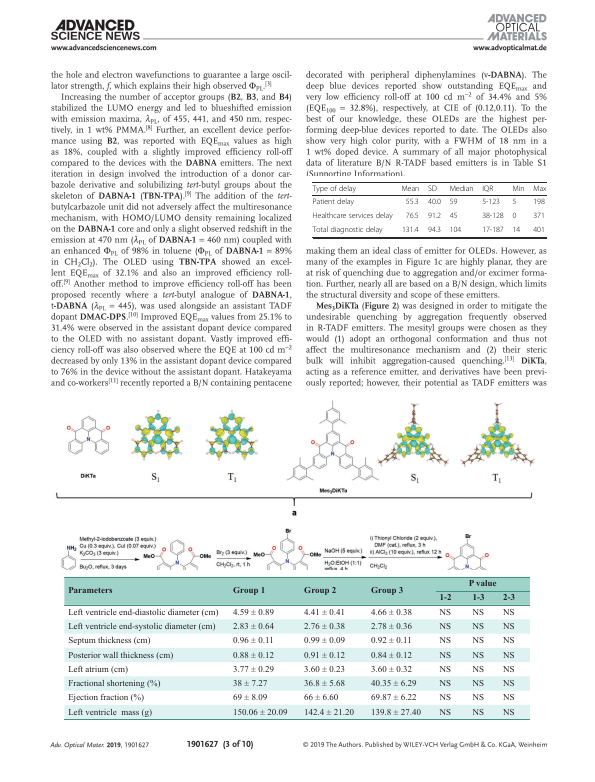borderless: (63, 575, 530, 719), (311, 181, 546, 237)
cell: (66, 608, 219, 618), (66, 622, 216, 632), (66, 651, 174, 661), (66, 679, 161, 689), (66, 636, 151, 647), (66, 708, 152, 718), (66, 693, 144, 704), (312, 212, 394, 222), (312, 226, 384, 236), (66, 665, 128, 675), (232, 708, 288, 718), (370, 693, 417, 704), (303, 708, 354, 718), (370, 708, 421, 718), (370, 679, 417, 689), (232, 636, 274, 647), (303, 636, 345, 647), (370, 636, 412, 647), (67, 587, 113, 597), (312, 198, 355, 208), (232, 608, 274, 618), (303, 608, 345, 618), (370, 608, 412, 618), (232, 622, 274, 632), (303, 622, 345, 632), (370, 622, 412, 632), (232, 651, 274, 661), (303, 651, 345, 661), (370, 651, 412, 661), (232, 665, 274, 675), (303, 665, 345, 675), (370, 665, 412, 675), (303, 679, 345, 689), (312, 185, 357, 194), (232, 693, 268, 704), (303, 693, 339, 704), (232, 679, 268, 689), (369, 587, 404, 597), (232, 587, 266, 597), (303, 587, 337, 597), (467, 580, 497, 590), (481, 212, 505, 222), (481, 226, 505, 236), (449, 185, 474, 194), (481, 198, 501, 208), (401, 226, 420, 236), (400, 185, 420, 194), (438, 636, 452, 647), (471, 636, 485, 647), (438, 693, 452, 704), (471, 693, 485, 704), (405, 198, 420, 208), (427, 198, 442, 208), (405, 212, 420, 222), (427, 212, 442, 222), (427, 226, 442, 236), (502, 636, 515, 647), (502, 693, 515, 704), (532, 198, 546, 208), (532, 212, 546, 222), (532, 226, 546, 236), (438, 594, 452, 604), (471, 594, 485, 604), (501, 594, 515, 604), (438, 608, 452, 618), (471, 608, 485, 618), (438, 622, 452, 632), (471, 622, 485, 632), (438, 651, 452, 661), (471, 651, 485, 661), (438, 665, 452, 675), (471, 665, 485, 675), (438, 679, 452, 689), (471, 679, 485, 689), (438, 708, 452, 718), (471, 708, 485, 718), (532, 185, 547, 194), (449, 226, 462, 236), (502, 608, 515, 618), (502, 622, 515, 632), (502, 651, 515, 661), (502, 665, 515, 675), (502, 679, 515, 689), (502, 708, 515, 718), (511, 185, 525, 194), (481, 185, 494, 194), (511, 226, 521, 236), (427, 185, 438, 194), (449, 198, 458, 208), (449, 212, 458, 222), (511, 198, 517, 208), (511, 212, 517, 222)
